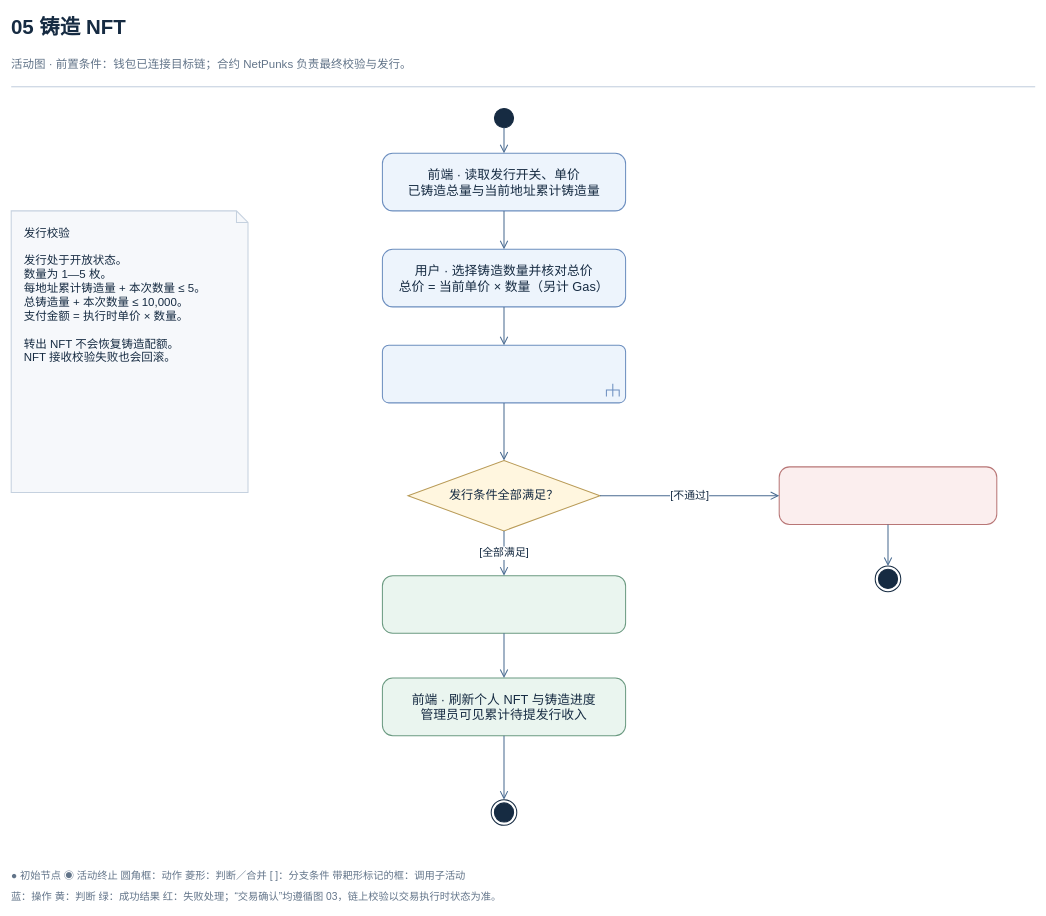
Image size: 1046x916. Some labels were removed from this diagram. The centre of each missing label's shape, as x and y in pixels:
NFT 合约 · 顺序分配编号并 safeMint 更新地址配额、总量与发行收入: pixel 504 604
合约拒绝并返回原因 价格变化时刷新后重新确认: pixel 887 495
提交并确认 mint(quantity) 携带精确总价 ETH（见图 03）: pixel 504 373
